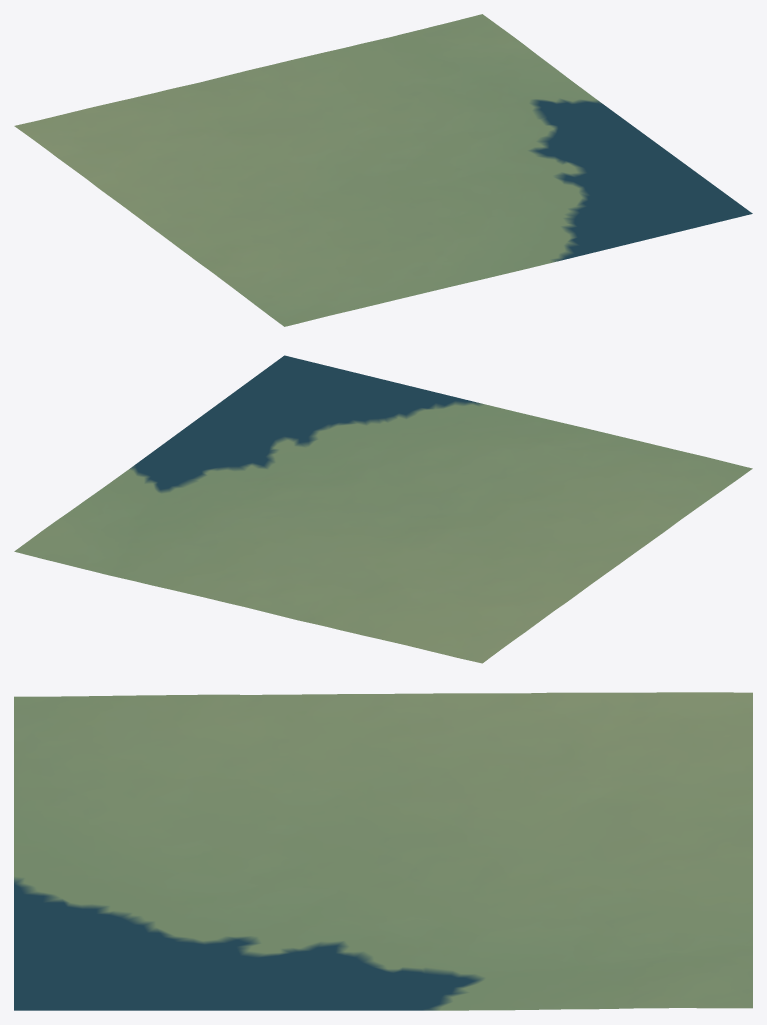
File: regional-world-generated-terrain-v1.glb
3 views of the same model, one above another, from view 1: azimuth 30°, elevation 25°; view 2: azimuth 150°, elevation 25°; view 3: azimuth 270°, elevation 25° (orthographic). The views are drawn at different scales.
Visible parts, largest first — view 1: Generated regional terrain; view 2: Generated regional terrain; view 3: Generated regional terrain.
Boxes of the visible parts, bbox=[...] form: Generated regional terrain: bbox=[14, 14, 752, 326]; Generated regional terrain: bbox=[14, 355, 752, 663]; Generated regional terrain: bbox=[14, 692, 752, 1010].
Bounding box in the file's own units: 1200 × 10.86 × 1200.
1 material, 1 textured.
